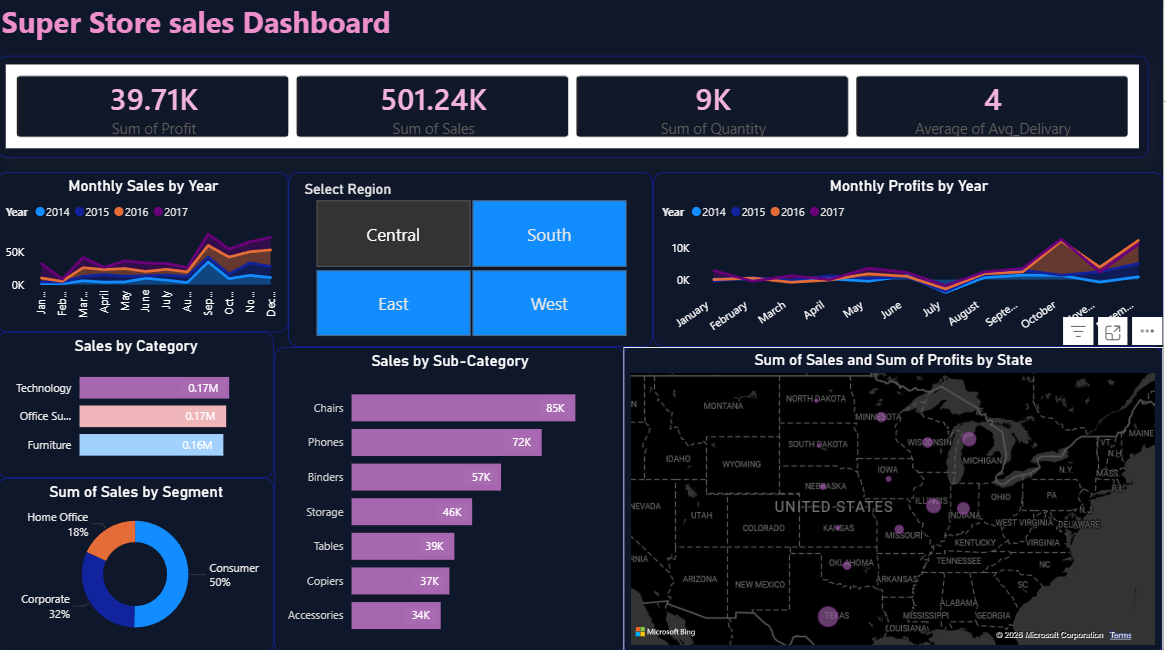

This screenshot's page, from the dashboard's own definition file:
{"tool":"powerbi","page":{"name":"Page 1","canvas":[1280,720],"ordinal":0},"visuals":[{"type":"barChart","title":"Sales by Category","fields":{"Category":["Orders.Category"],"Y":["Sum(Orders.Sales)"]},"box":[0,368,304,160],"z":0},{"type":"barChart","title":"Sales by Sub-Category","fields":{"Y":["Sum(Orders.Sales)"],"Category":["Orders.Sub-Category"]},"box":[304,384,384,336],"z":1000},{"type":"stackedAreaChart","title":" Monthly Sales by Year","fields":{"Y":["Sum(Orders.Sales)"],"Series":["Orders.Order Date.Variation.Date Hierarchy.Year"],"Category":["Orders.Order Date.Variation.Date Hierarchy.Month"]},"box":[0,192,320,176],"z":2000},{"type":"stackedAreaChart","title":"Monthly Profits by Year","fields":{"Series":["Orders.Order Date.Variation.Date Hierarchy.Year"],"Category":["Orders.Order Date.Variation.Date Hierarchy.Month"],"Y":["Sum(Orders.Profit)"]},"box":[720,192,560,192],"z":3000},{"type":"map","title":"Sum of Sales and Sum of Profits by State","fields":{"Category":["Orders.State"],"Size":["Sum(Orders.Sales)"]},"box":[688,384,592,336],"z":4000},{"type":"donutChart","fields":{"Category":["Orders.Segment"],"Y":["Sum(Orders.Sales)"]},"box":[0,528,304,192],"z":5000},{"type":"slicer","fields":{"Values":["Orders$FilterDatabase.Region"]},"box":[320,192,400,192],"z":6000},{"type":"textbox","box":[0,0,537.9,76.8],"z":7000},{"type":"cardVisual","fields":{"Data":["Sum(Orders.Profit)","Sum(Orders.Sales)","Sum(Orders.Quantity)","Avg(Orders.Avg_Delivary)"]},"box":[0,64,1264,112],"z":9000}]}

Visuals, with their boxes in screenshot pixels (x1, y1, x2, y2), scaled from the page's 1280x720 canvas onto the 1166x650 screenshot:
"Sales by Category" barChart: x1=0, y1=332, x2=277, y2=477
"Sales by Sub-Category" barChart: x1=277, y1=347, x2=627, y2=649
" Monthly Sales by Year" stackedAreaChart: x1=0, y1=173, x2=292, y2=332
"Monthly Profits by Year" stackedAreaChart: x1=656, y1=173, x2=1165, y2=347
"Sum of Sales and Sum of Profits by State" map: x1=627, y1=347, x2=1165, y2=649
donutChart - Orders.Segment x Sum(Orders.Sales): x1=0, y1=477, x2=277, y2=649
slicer - Orders$FilterDatabase.Region: x1=292, y1=173, x2=656, y2=347
textbox: x1=0, y1=0, x2=490, y2=69
cardVisual - Sum(Orders.Profit) x Sum(Orders.Sales): x1=0, y1=58, x2=1151, y2=159
